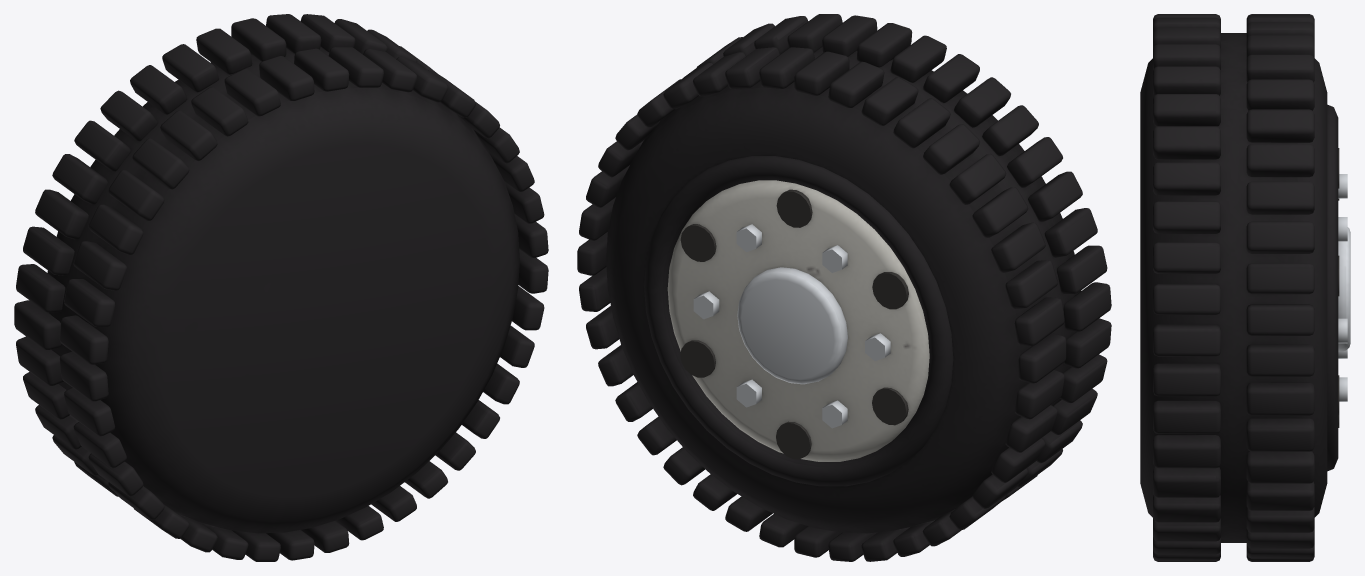
Rendered from truck_wheel.fbx.
3 renders of one model, left to right at view 1: azimuth 30°, elevation 25°; view 2: azimuth 150°, elevation 25°; view 3: azimuth 270°, elevation 25°, orthographic. The views are drawn at different scales.
Parts seen in each view (by area): view 1: truck_wheel; view 2: truck_wheel; view 3: truck_wheel.
Part boxes in pixels (left/top/right/bottom): truck_wheel: left=14, top=14, right=548, bottom=561; truck_wheel: left=577, top=14, right=1111, bottom=561; truck_wheel: left=1140, top=14, right=1350, bottom=561.
Size of the model in its own units: 0.644 by 0.644 by 0.2475.
